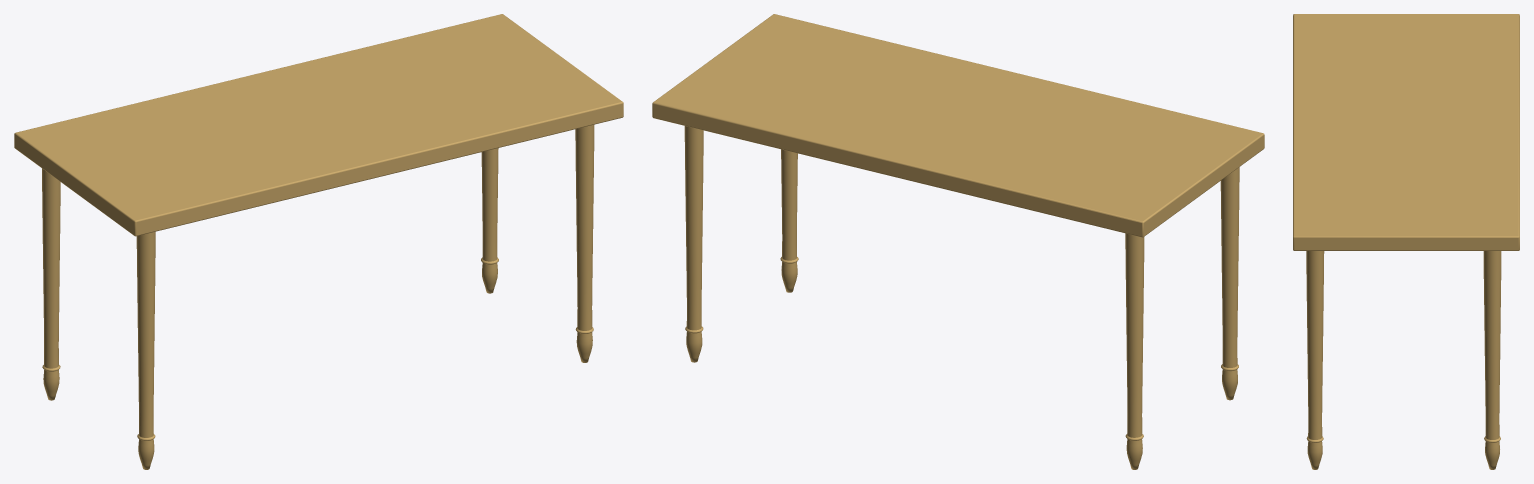
File: table.gltf
3 views of the same model, side by side, from view 1: azimuth 30°, elevation 25°; view 2: azimuth 150°, elevation 25°; view 3: azimuth 270°, elevation 25° (orthographic). The views are drawn at different scales.
Parts seen in each view (by area): view 1: Cube.006, Circle.009; view 2: Cube.006, Circle.009; view 3: Cube.006, Circle.009.
Part boxes in pixels (left/top/right/bottom): Cube.006: left=14, top=14, right=623, bottom=236; Circle.009: left=42, top=125, right=594, bottom=469; Cube.006: left=652, top=14, right=1264, bottom=237; Circle.009: left=684, top=126, right=1239, bottom=469; Cube.006: left=1293, top=14, right=1519, bottom=250; Circle.009: left=1306, top=251, right=1501, bottom=469.
Size of the model in its own units: 11.86 by 6.06 by 5.09.
